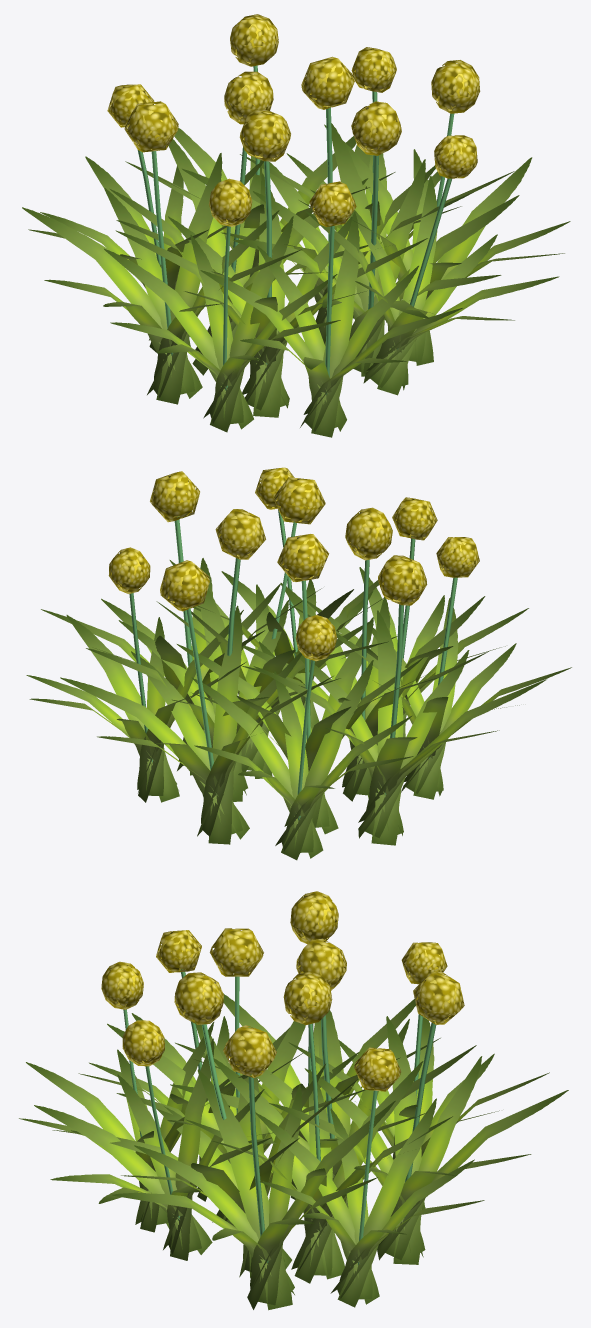
The model's file is BillyButtonCombined.fbx.
3 renders of one model, top to bottom at view 1: azimuth 30°, elevation 25°; view 2: azimuth 150°, elevation 25°; view 3: azimuth 270°, elevation 25°, orthographic. The views are drawn at different scales.
Visible parts, largest first — view 1: BillyButtonCombined; view 2: BillyButtonCombined; view 3: BillyButtonCombined.
Part boxes in pixels (<box>): BillyButtonCombined: <box>22,14,570,437</box>; BillyButtonCombined: <box>26,467,571,860</box>; BillyButtonCombined: <box>19,891,568,1310</box>.
Size of the model in its own units: 261 by 148 by 252.
